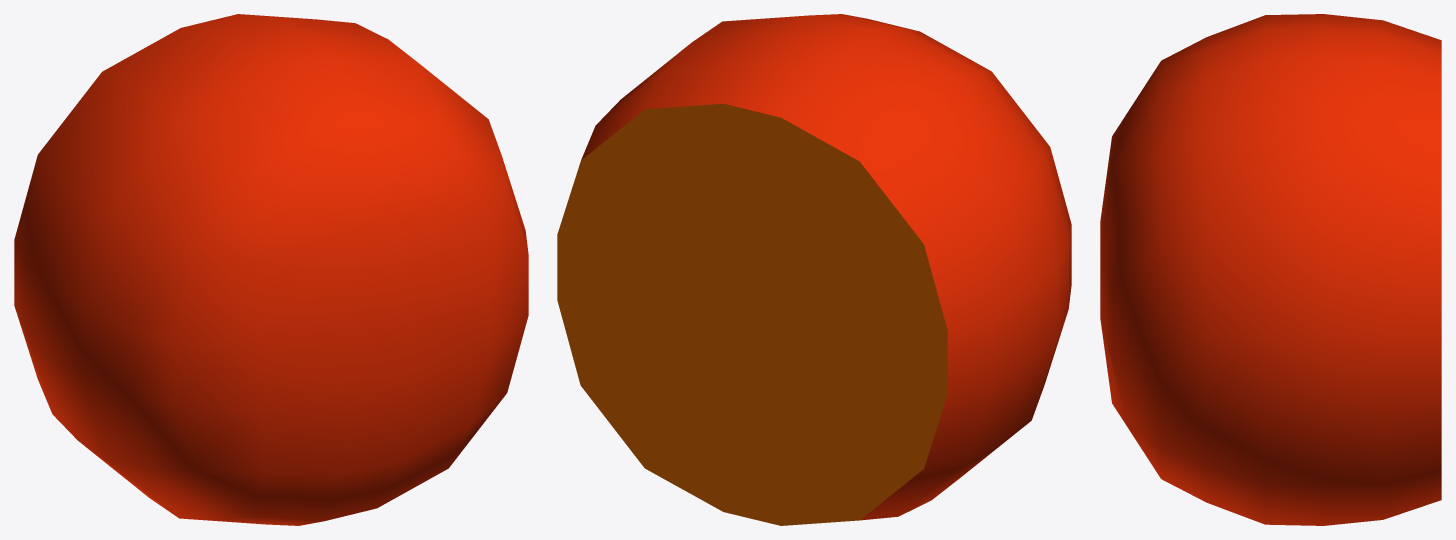
The model's file is mesh_tomato_stage02.fbx.
The picture shows the model from 3 angles, left to right: view 1: azimuth 30°, elevation 25°; view 2: azimuth 150°, elevation 25°; view 3: azimuth 270°, elevation 25°; orthographic projection.
Parts seen in each view (by area): view 1: mesh_tomato_stage02; view 2: mesh_tomato_stage02; view 3: mesh_tomato_stage02.
Boxes of the visible parts, x1,y1,x2,y2 form: mesh_tomato_stage02: (14, 14, 528, 525); mesh_tomato_stage02: (557, 14, 1071, 525); mesh_tomato_stage02: (1100, 14, 1441, 525).
Bounding box in the file's own units: 0.1904 × 0.1904 × 0.1306.
